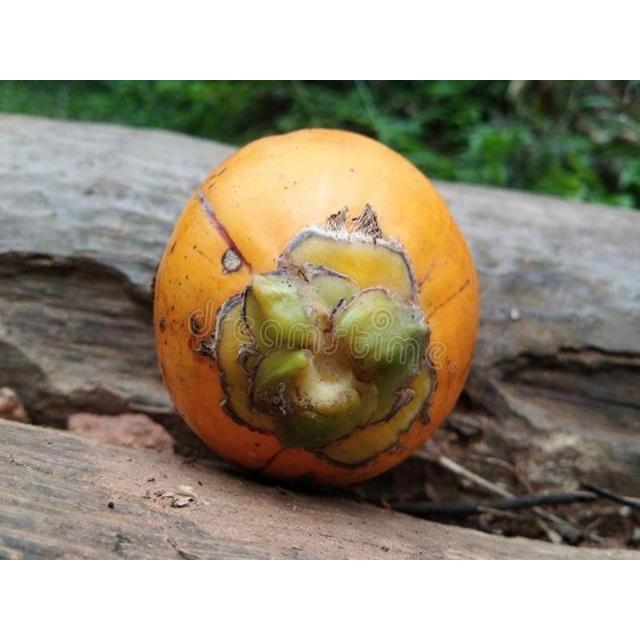good: (153, 128, 481, 491)
